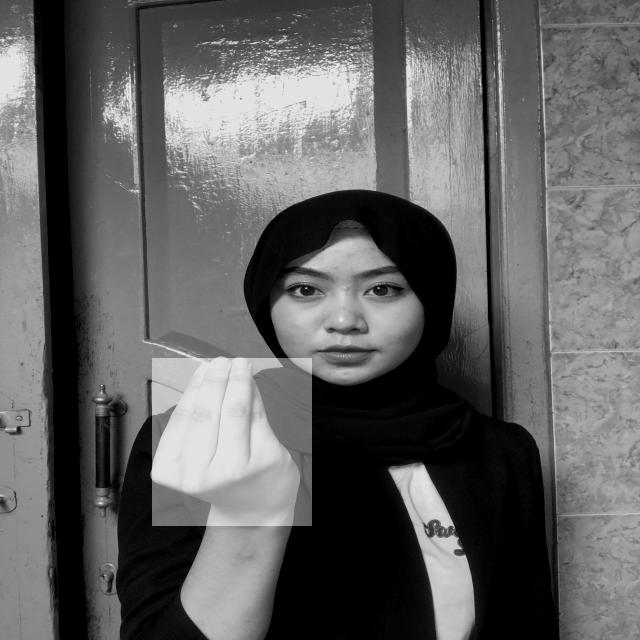kapan: (152, 358, 312, 526)
